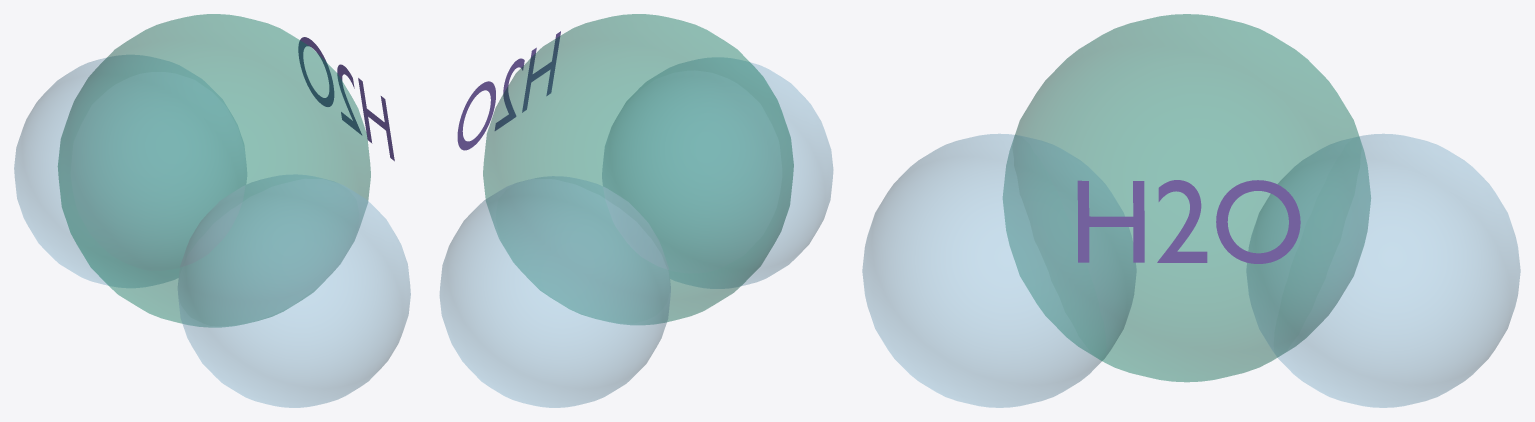
The model's file is WaterMolecule.gltf.
3 views of the same model, side by side, from view 1: azimuth 30°, elevation 25°; view 2: azimuth 150°, elevation 25°; view 3: azimuth 270°, elevation 25° (orthographic). The views are drawn at different scales.
Parts seen in each view (by area): view 1: Sphere, Sphere.002, Sphere.001, Text; view 2: Sphere, Sphere.001, Sphere.002, Text; view 3: Sphere, Sphere.001, Sphere.002, Text.
Part boxes in pixels (left/top/right/bottom): Sphere: left=58, top=14, right=370, bottom=327; Sphere.002: left=178, top=174, right=410, bottom=407; Sphere.001: left=14, top=55, right=246, bottom=287; Text: left=298, top=37, right=394, bottom=161; Sphere: left=483, top=14, right=793, bottom=324; Sphere.001: left=439, top=176, right=670, bottom=407; Sphere.002: left=602, top=57, right=833, bottom=288; Text: left=457, top=31, right=560, bottom=150; Sphere: left=1003, top=14, right=1370, bottom=381; Sphere.001: left=1246, top=134, right=1520, bottom=407; Sphere.002: left=862, top=134, right=1136, bottom=407; Text: left=1077, top=180, right=1300, bottom=263.
Bounding box in the file's own units: 2.7 × 2.93 × 4.8.
